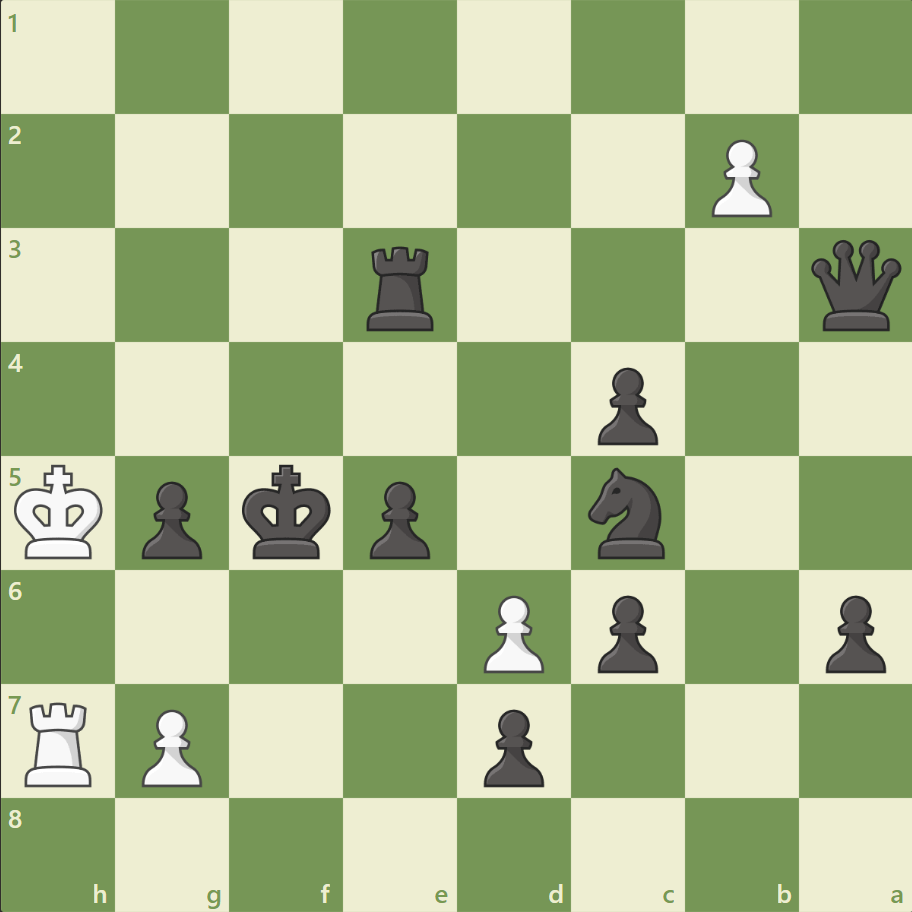K: (11, 458, 111, 566)
P: (133, 700, 208, 791), (474, 586, 549, 677), (701, 132, 776, 223)
R: (19, 693, 102, 790)
k: (238, 458, 338, 566)
n: (579, 461, 676, 564)
p: (474, 700, 549, 791), (133, 473, 208, 564), (815, 586, 889, 677), (588, 586, 662, 677), (361, 473, 435, 564), (588, 359, 662, 450)
q: (805, 236, 904, 335)
r: (360, 239, 442, 336)
